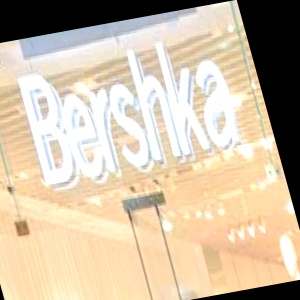bershka: (174, 15, 249, 56)
